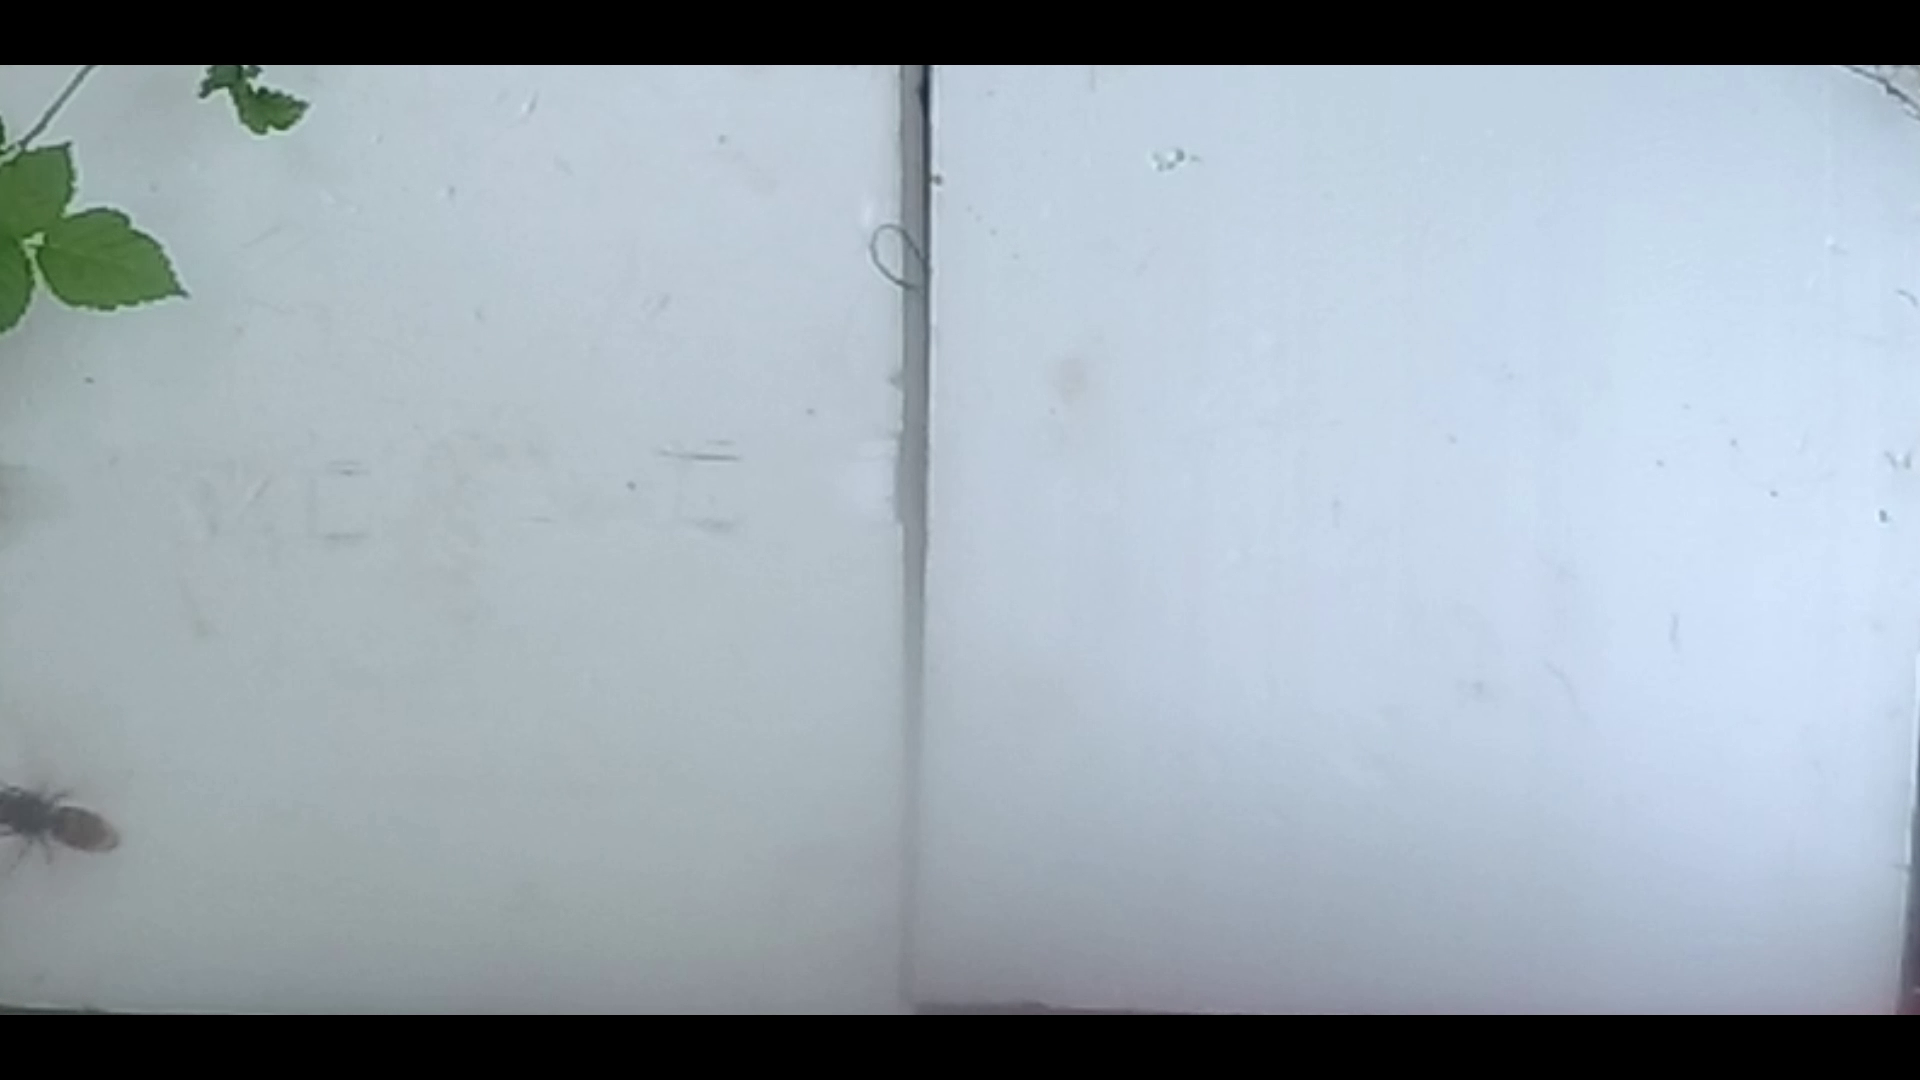Asian_hornets: (0, 764, 129, 884)
